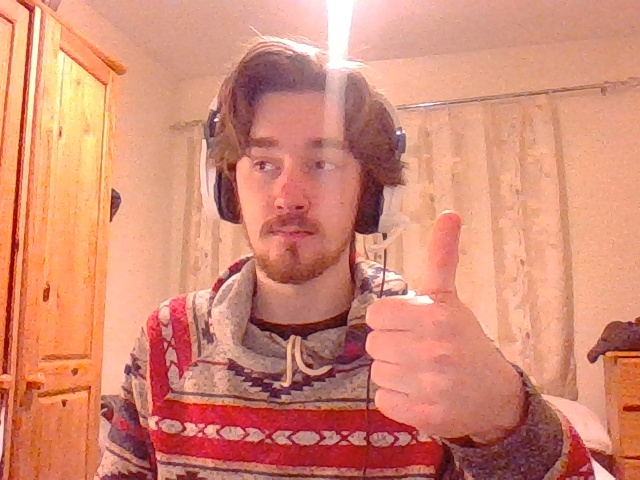good: (364, 211, 524, 435)
